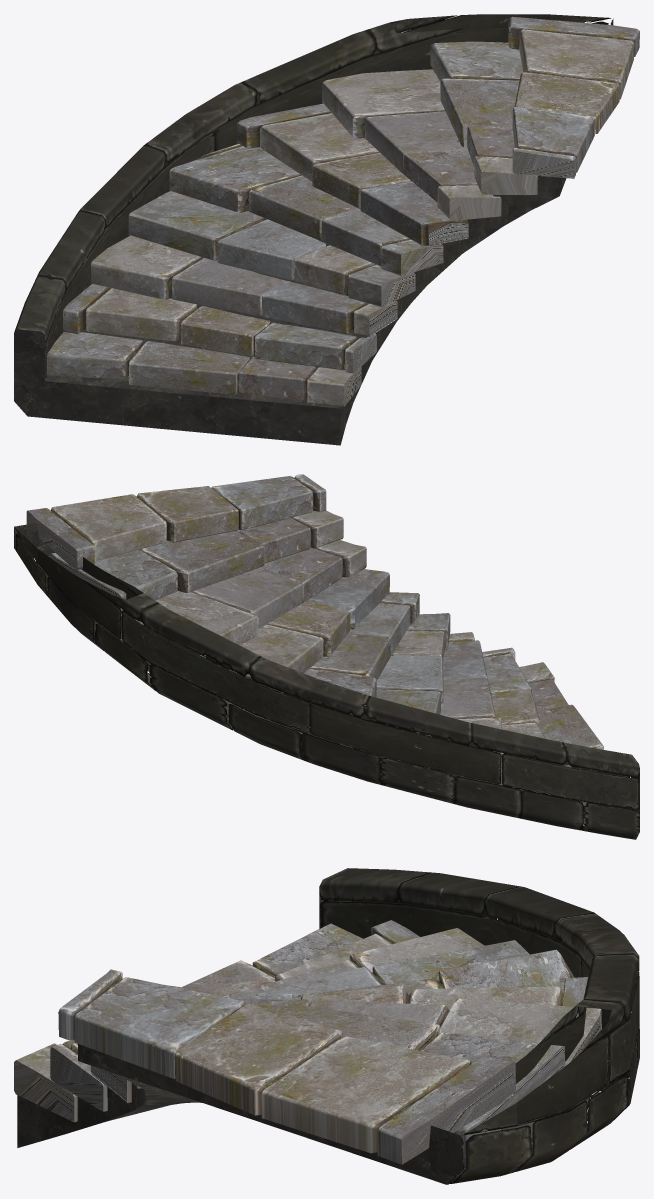
3 renders of one model, top to bottom at view 1: azimuth 30°, elevation 25°; view 2: azimuth 150°, elevation 25°; view 3: azimuth 270°, elevation 25°, orthographic. The views are drawn at different scales.
Parts seen in each view (by area): view 1: SM_Dowdun_Spiral_Staircase_Tower_03_B_LOD0; view 2: SM_Dowdun_Spiral_Staircase_Tower_03_B_LOD0; view 3: SM_Dowdun_Spiral_Staircase_Tower_03_B_LOD0.
Part boxes in pixels (<box>): SM_Dowdun_Spiral_Staircase_Tower_03_B_LOD0: <box>14,14,639,445</box>; SM_Dowdun_Spiral_Staircase_Tower_03_B_LOD0: <box>14,474,639,839</box>; SM_Dowdun_Spiral_Staircase_Tower_03_B_LOD0: <box>14,868,639,1184</box>.
Bounding box in the file's own units: 7.59 × 2.52 × 4.32.
Materials: 3 (3 with a texture image).
